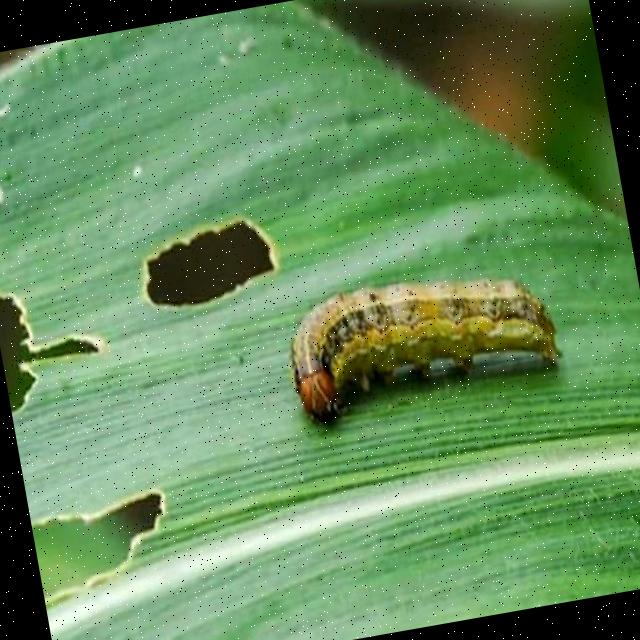worm: (278, 253, 568, 431)
